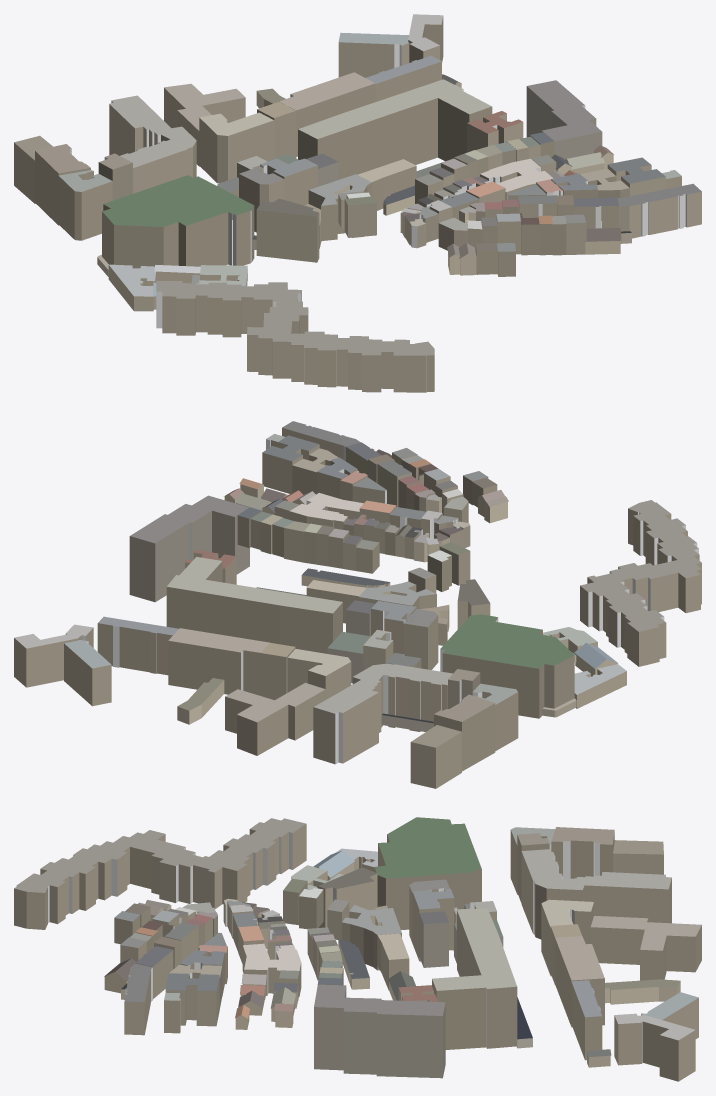
3 views of the same model, one above another, from view 1: azimuth 30°, elevation 25°; view 2: azimuth 150°, elevation 25°; view 3: azimuth 270°, elevation 25° (orthographic). The views are drawn at different scales.
Visible parts, largest first — view 1: tuile; view 2: tuile; view 3: tuile.
Part boxes in pixels (x1,y1,x2,y2): tuile: [14, 14, 701, 392]; tuile: [14, 421, 701, 788]; tuile: [14, 817, 701, 1081].
Bounding box in the file's own units: 248 × 45.33 × 305.
